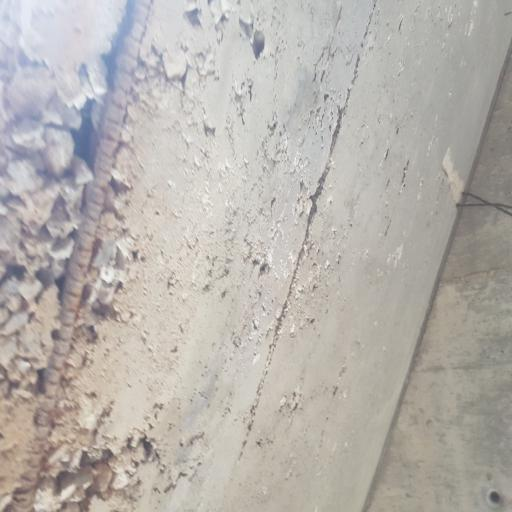exposed_rebar: (13, 0, 151, 510)
